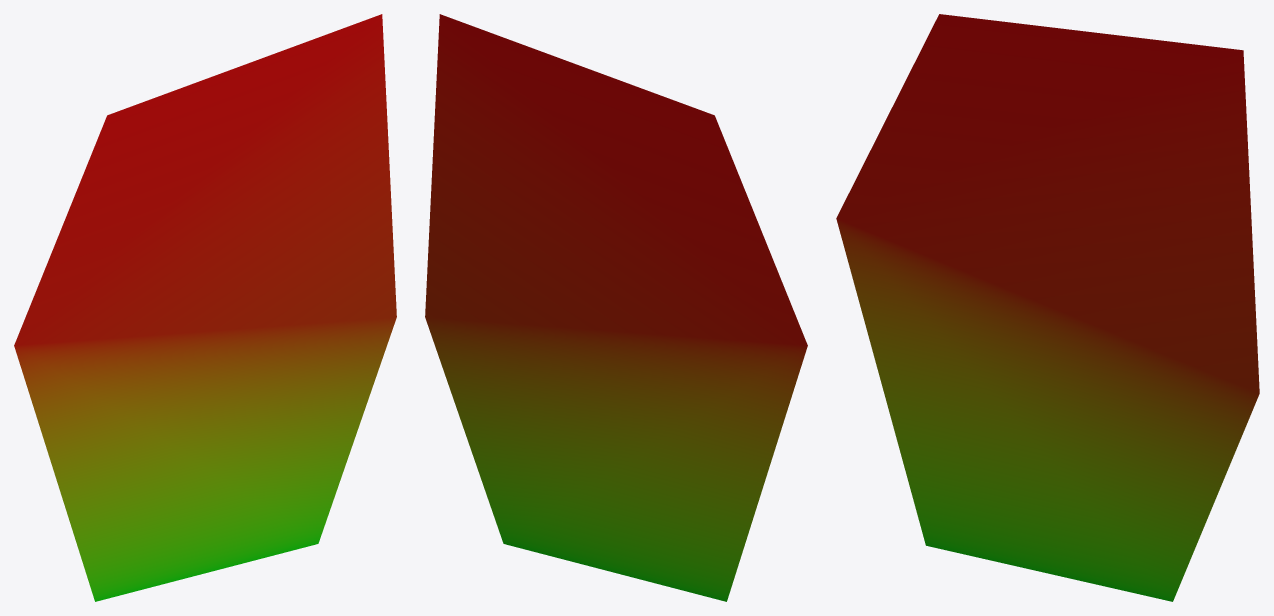
Rendered from Raspberry_LOD4_Var12_wf0oefeja.fbx.
3 views of the same model, side by side, from view 1: azimuth 30°, elevation 25°; view 2: azimuth 150°, elevation 25°; view 3: azimuth 330°, elevation 25° (orthographic). The views are drawn at different scales.
Visible parts, largest first — view 1: _gsqh_Var12_LOD4; view 2: _gsqh_Var12_LOD4; view 3: _gsqh_Var12_LOD4.
Boxes of the visible parts, x1,y1,x2,y2 form: _gsqh_Var12_LOD4: (14, 14, 396, 601); _gsqh_Var12_LOD4: (425, 14, 807, 601); _gsqh_Var12_LOD4: (836, 14, 1259, 601).
Bounding box in the file's own units: 12.71 × 16.43 × 1.96e-06.
